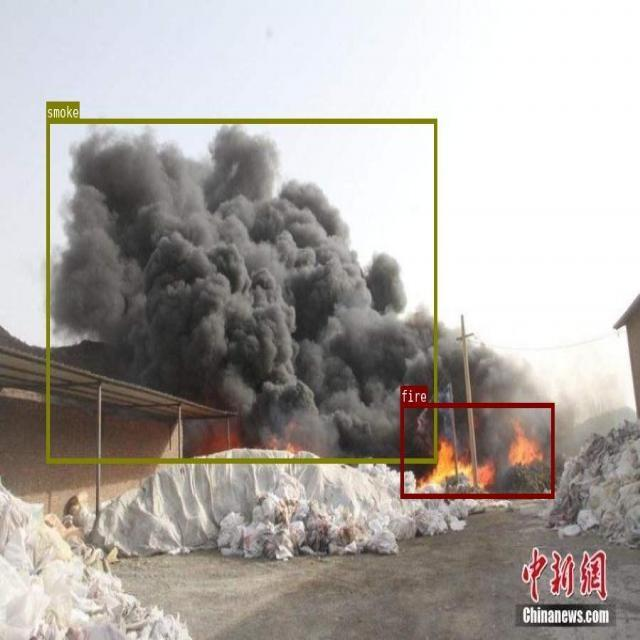fire: (401, 402, 554, 497)
smoke: (46, 118, 437, 462)
